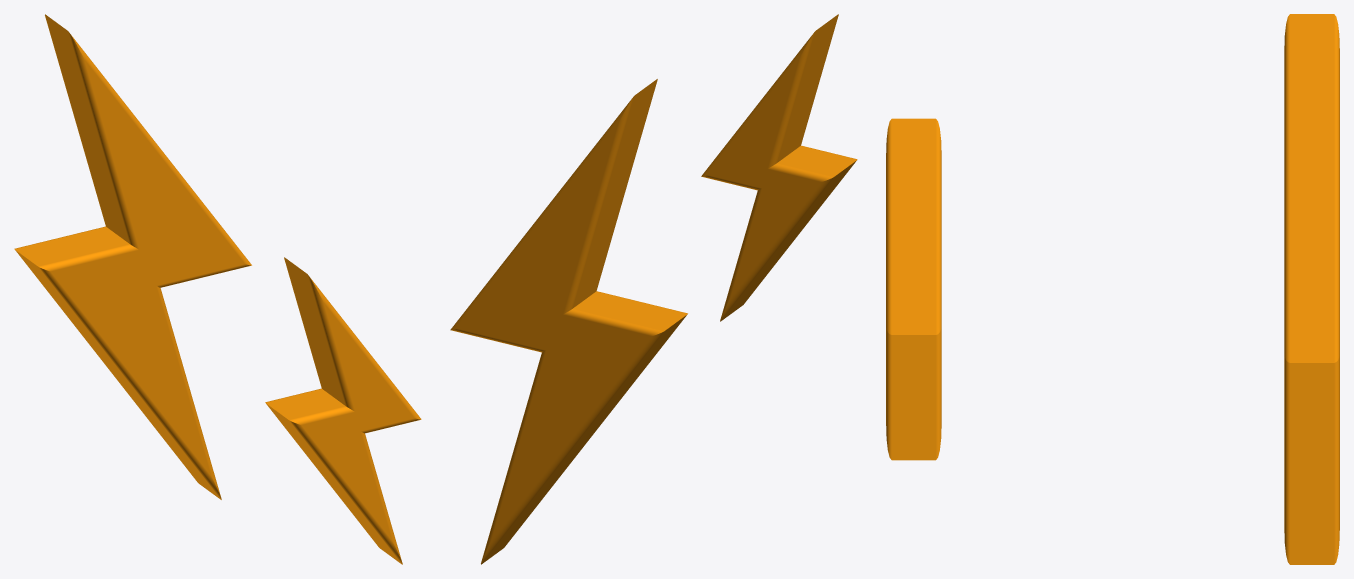
File: FG_Bolt.obj
The picture shows the model from 3 angles, left to right: view 1: azimuth 30°, elevation 25°; view 2: azimuth 150°, elevation 25°; view 3: azimuth 270°, elevation 25°; orthographic projection. The views are drawn at different scales.
Visible parts, largest first — view 1: FG_Bolt; view 2: FG_Bolt; view 3: FG_Bolt.
Part boxes in pixels (bbox=[...]): FG_Bolt: bbox=[14, 14, 421, 564]; FG_Bolt: bbox=[450, 14, 857, 564]; FG_Bolt: bbox=[886, 14, 1339, 564].
Size of the model in its own units: 1.86 by 4.2 by 3.6.
